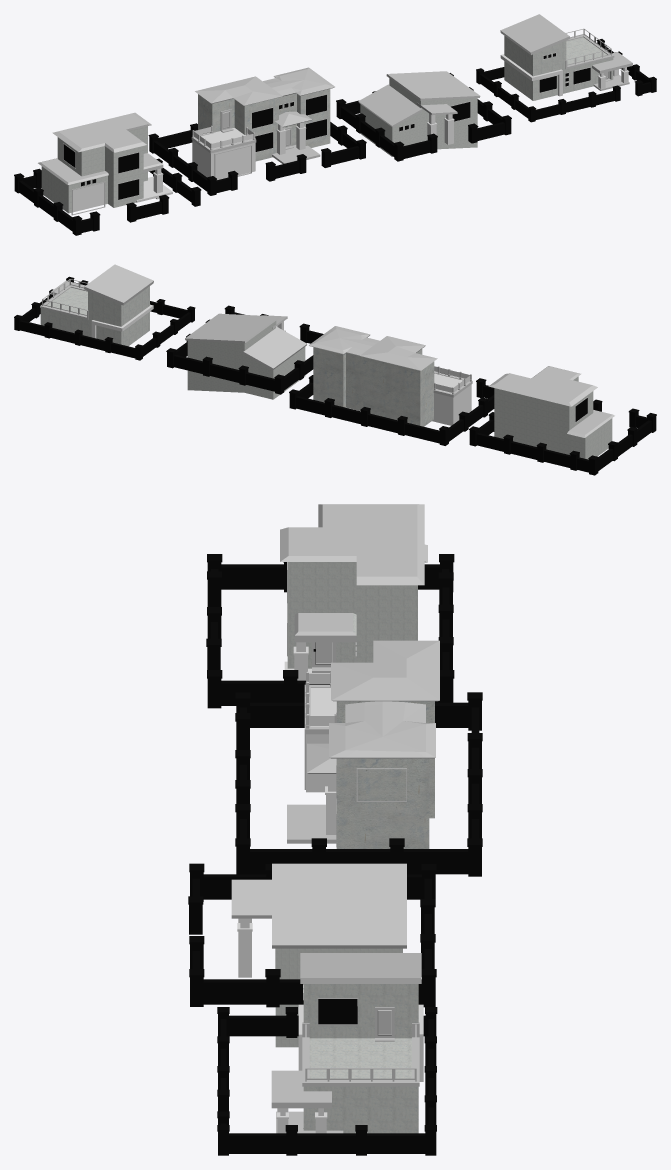
Rendered from street.fbx.
3 views of the same model, one above another, from view 1: azimuth 30°, elevation 25°; view 2: azimuth 150°, elevation 25°; view 3: azimuth 270°, elevation 25° (orthographic). The views are drawn at different scales.
Visible parts, largest first — view 1: Cube.379, Cube.310, Cube.519, Cube.283, Cube.476, Cube.281, Cube.287, Cube.391, Cube.480, Cube.392, Cube.294, Cube.515 (+18 smaller); view 2: Cube.379, Cube.519, Cube.310, Cube.283, Cube.476, Cube.391, Cube.287, Cube.281, Cube.294, Cube.392, Cube.515, Cube.282 (+9 smaller); view 3: Cube.379, Cube.310, Cube.281, Cube.519, Cube.476, Cube.287, Cube.515, Cube.516, Cube.480, Cube.392, Cube.391, Cube.311 (+10 smaller).
Part boxes in pixels (box(x1,y1,x2,y2)): Cube.379: box(38, 112, 163, 213); Cube.310: box(504, 36, 613, 100); Cube.519: box(198, 89, 330, 161); Cube.283: box(360, 78, 477, 156); Cube.476: box(154, 122, 359, 192); Cube.281: box(386, 71, 480, 100); Cube.287: box(480, 45, 650, 119); Cube.391: box(19, 168, 191, 232); Cube.480: box(148, 123, 366, 195); Cube.392: box(14, 158, 201, 235); Cube.294: box(500, 14, 570, 54); Cube.515: box(195, 76, 282, 105); Cube.379: box(488, 366, 614, 459); Cube.519: box(313, 347, 434, 426); Cube.310: box(40, 286, 149, 346); Cube.283: box(187, 321, 305, 399); Cube.476: box(296, 382, 494, 443); Cube.391: box(476, 415, 651, 472); Cube.287: box(19, 282, 190, 358); Cube.281: box(185, 313, 278, 343); Cube.294: box(84, 264, 153, 305); Cube.392: box(469, 399, 656, 475); Cube.515: box(360, 336, 437, 370); Cube.282: box(243, 327, 306, 369); Cube.379: box(280, 504, 427, 668); Cube.310: box(303, 984, 418, 1133); Cube.281: box(272, 863, 406, 948); Cube.519: box(336, 701, 434, 848); Cube.476: box(239, 702, 479, 874); Cube.287: box(220, 1015, 434, 1153); Cube.515: box(331, 640, 439, 701); Cube.516: box(329, 701, 435, 758); Cube.480: box(235, 692, 482, 876); Cube.392: box(206, 554, 454, 708); Cube.391: box(210, 564, 449, 705); Cube.311: box(217, 1007, 437, 1155).
Bounding box in the file's own units: 17081 × 2435 × 3732.
